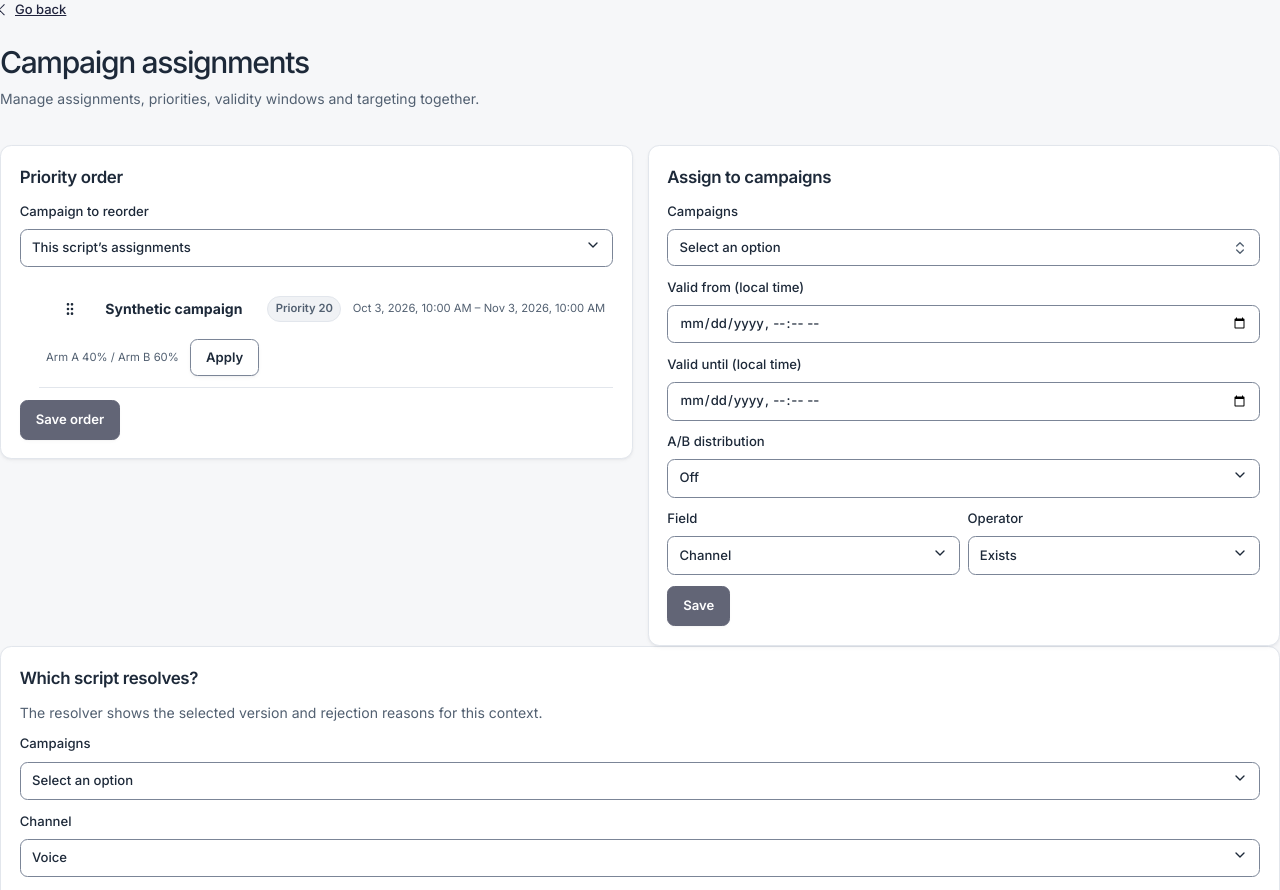
Test: reports unreadable resolver responses instead of dumping them
Expected: the text "Synthetic campaign" is shown, [105,298,256,319]
Click the dropdown labelled "Select an option" at [83, 780], box [20,762,1260,800]
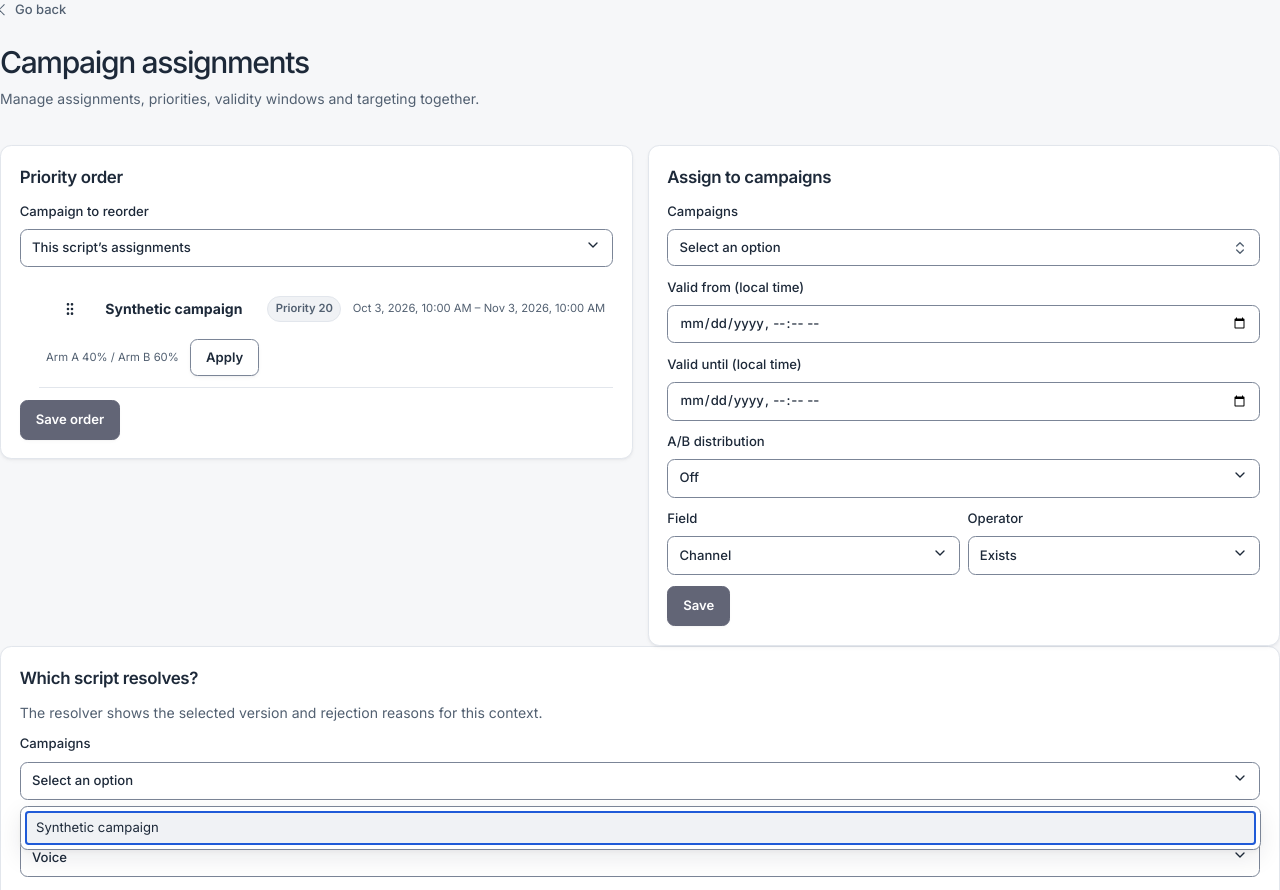
Click the option "Synthetic campaign" at [97, 827], box [25,811,1256,846]
(page scrolled)
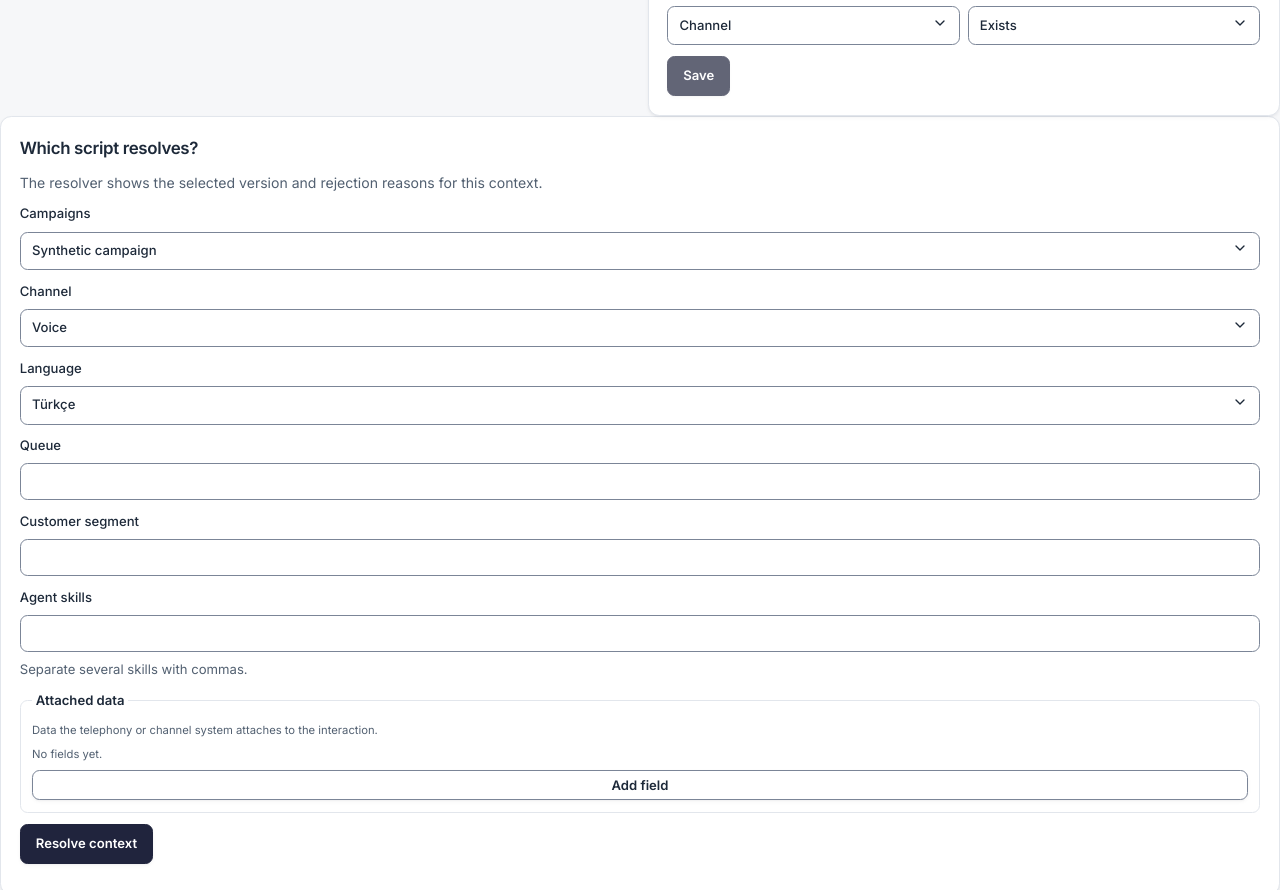
Click the button "Resolve context" at [86, 844], box [20,824,153,864]
(page scrolled)
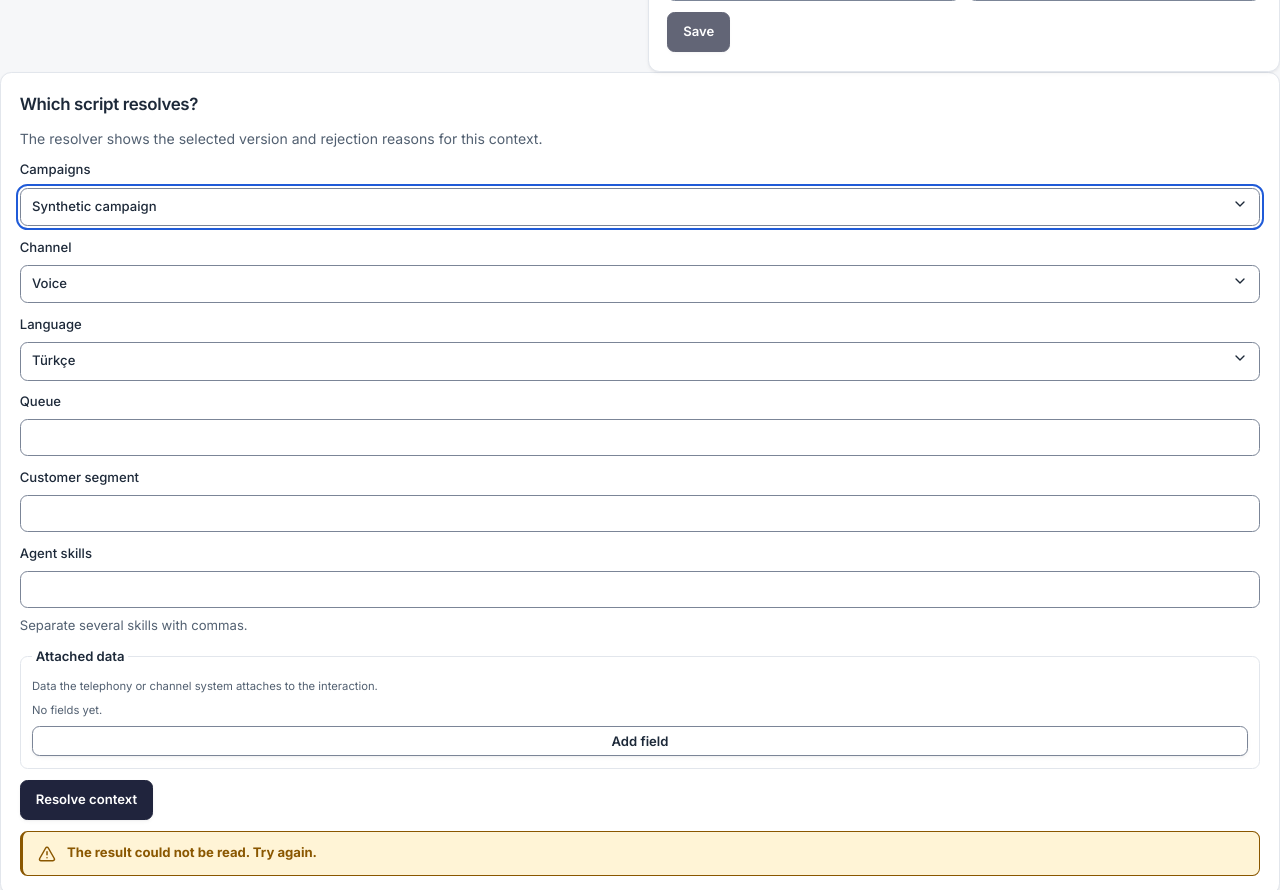
Expected: the text "The result could not be read. Try again." is shown, [67,844,317,860]
